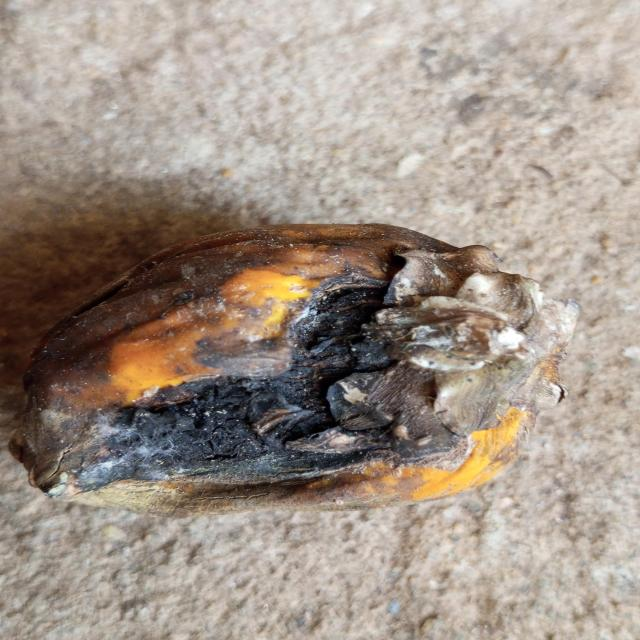damaged: (10, 225, 579, 515)
